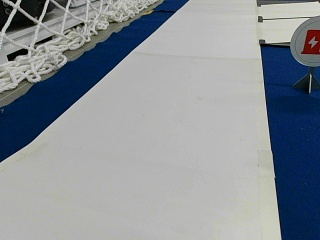battery: (291, 15, 320, 65)
